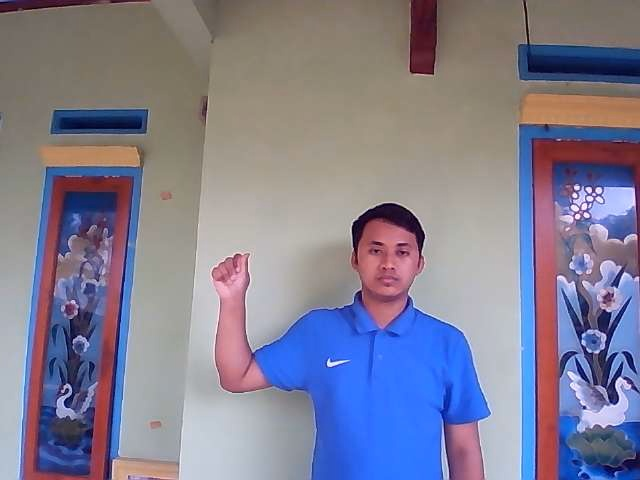A: (210, 252, 252, 298)
